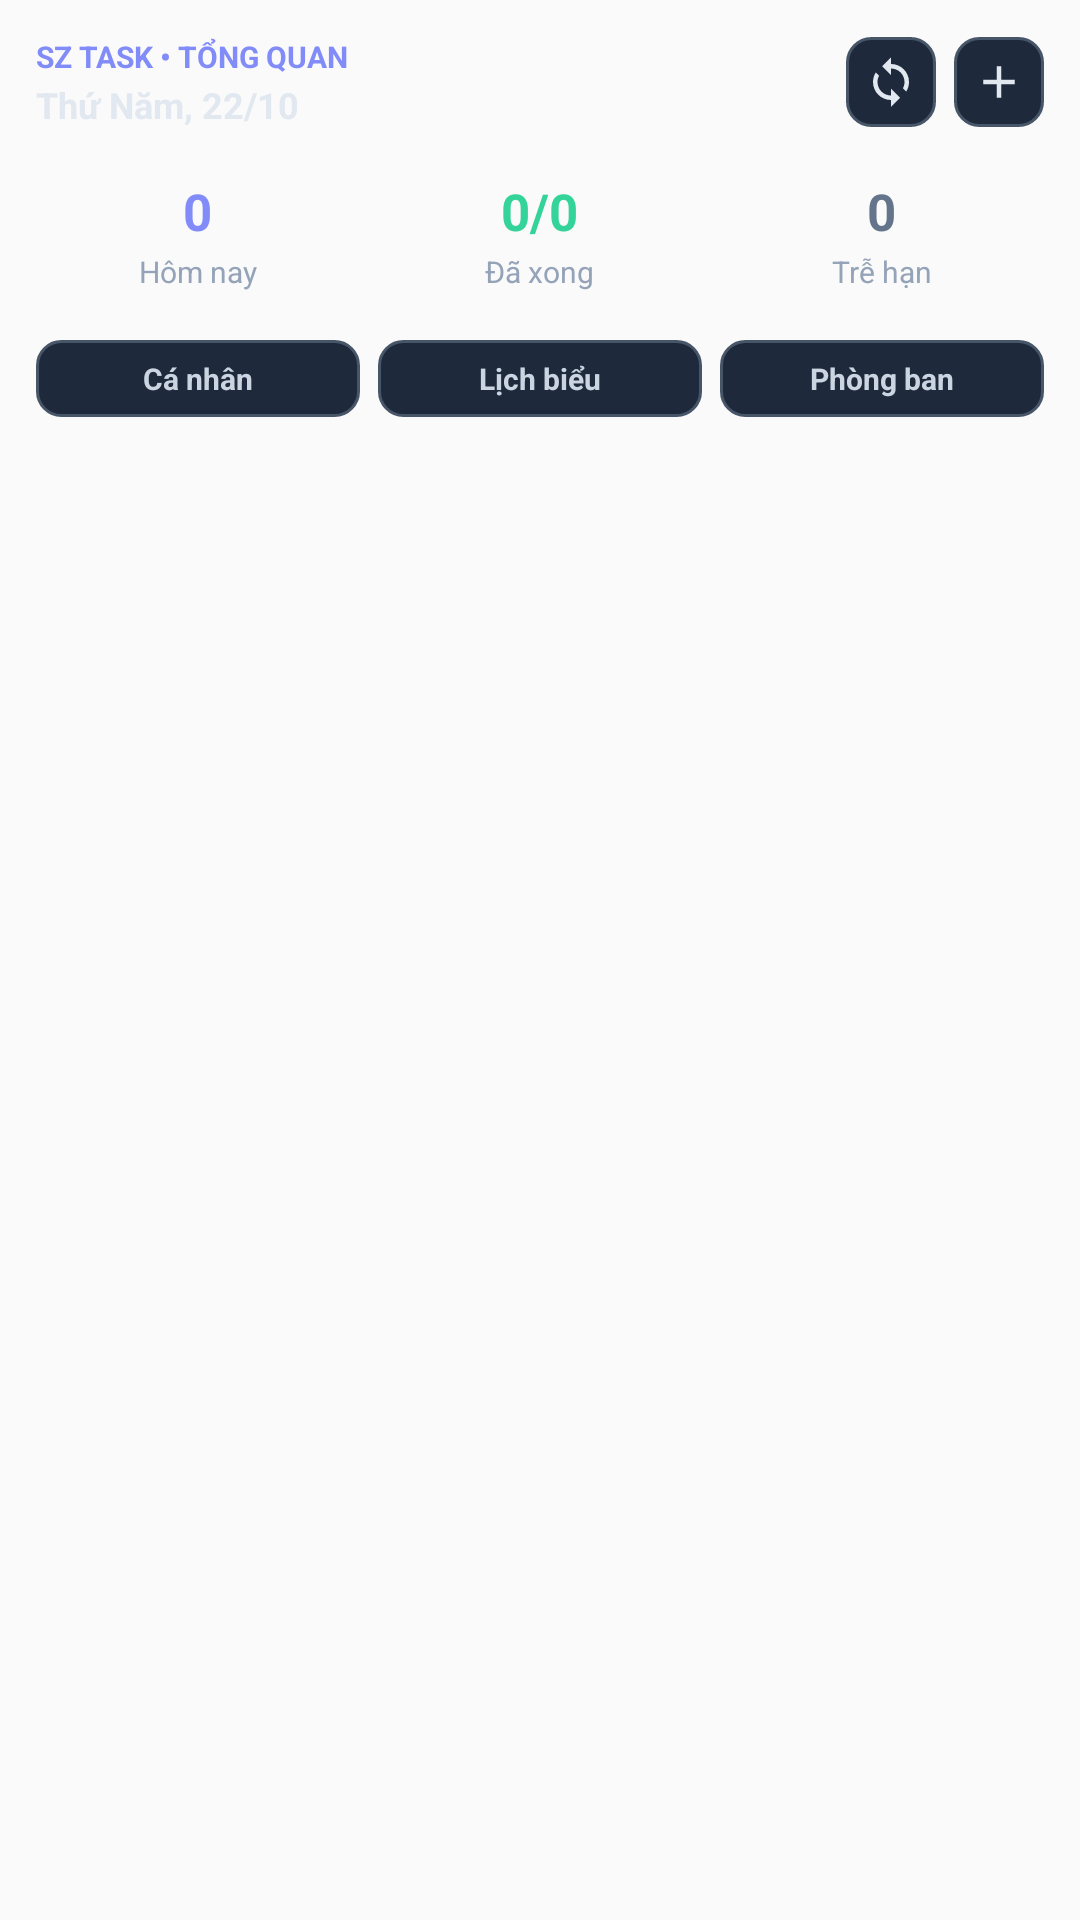

Locate icon controls on the screen. Image size 1080px×1920px, boxes as (x1,y1,x2,y2).
Tạo việc mới: (954,37,1044,127)
Đồng bộ: (846,37,936,127)
